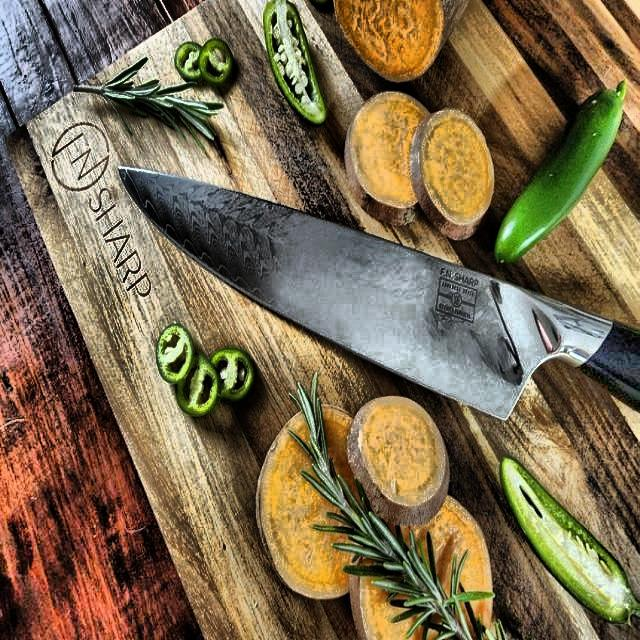knife: (114, 162, 640, 434)
